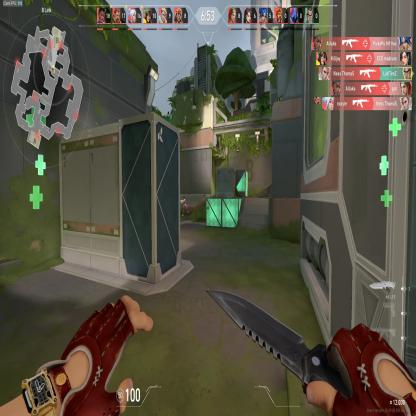enemy: (180, 196, 189, 217)
